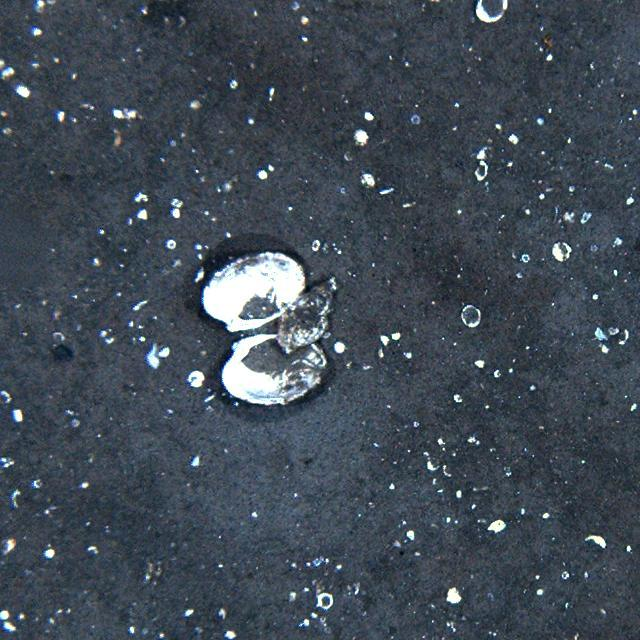whelk: (280, 278, 344, 350)
